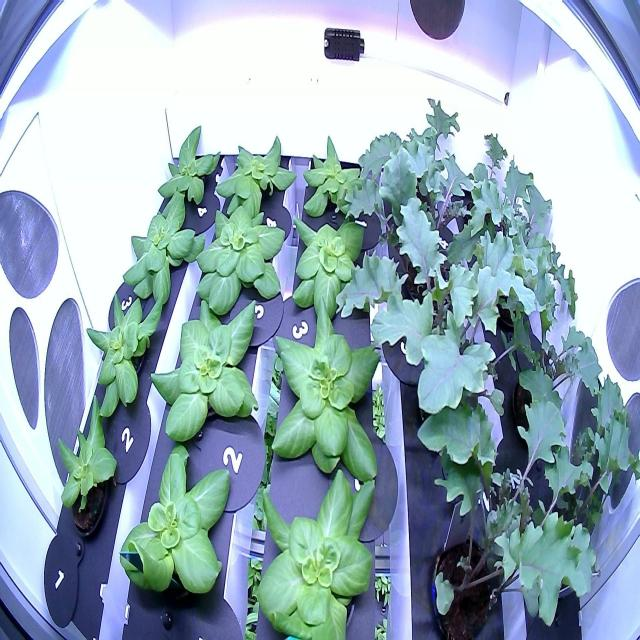young: (249, 453, 382, 640), (108, 439, 249, 613), (264, 291, 387, 487), (144, 294, 262, 449), (77, 282, 172, 427), (183, 198, 294, 318), (119, 179, 207, 313), (287, 201, 376, 328), (52, 386, 124, 542), (149, 112, 230, 218), (211, 128, 295, 227), (298, 129, 372, 229)
